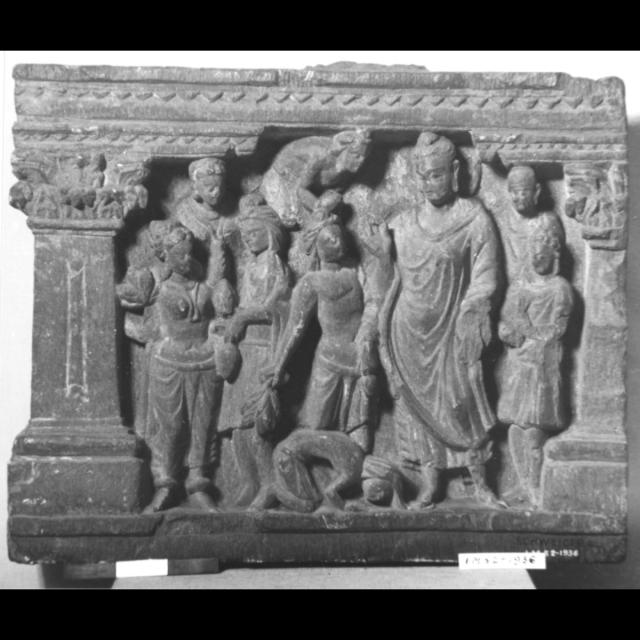buddha-standing: (379, 132, 499, 508)
